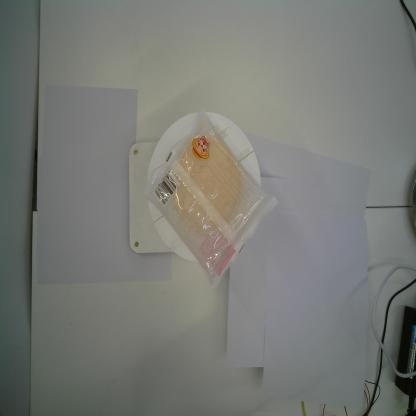Dessert: (139, 106, 280, 295)
